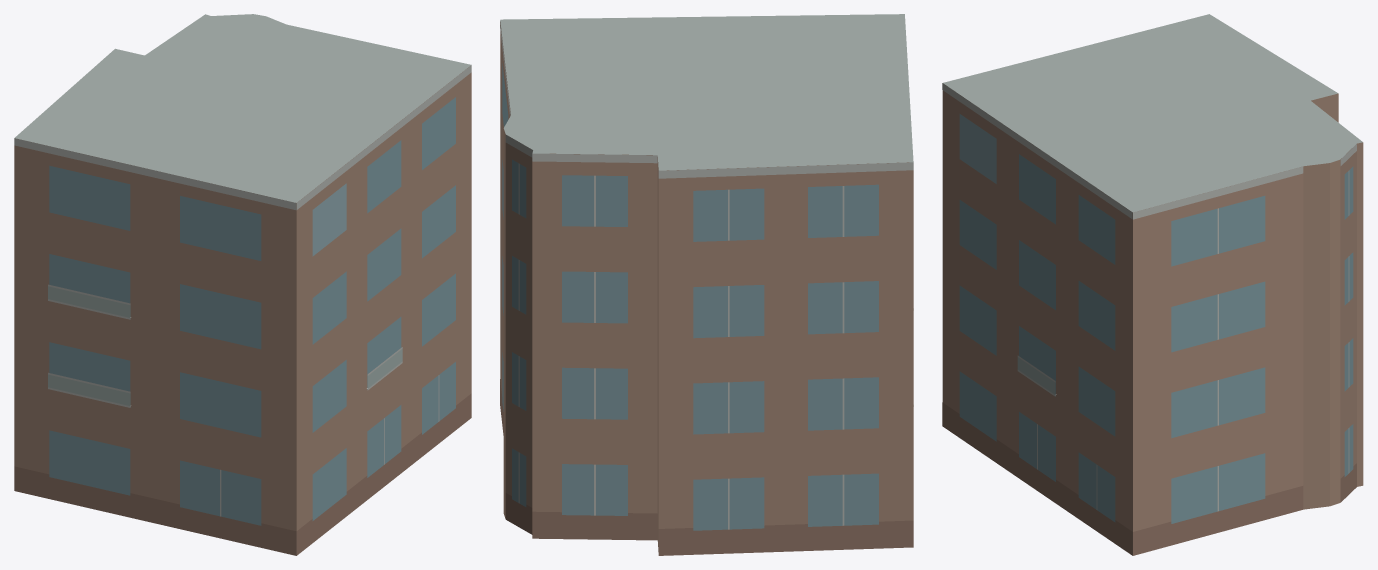
The model's file is survey-upis-32762179.glb.
3 renders of one model, left to right at view 1: azimuth 30°, elevation 25°; view 2: azimuth 150°, elevation 25°; view 3: azimuth 270°, elevation 25°, orthographic. The views are drawn at different scales.
Parts seen in each view (by area): view 1: survey-upis-32762179.tmp; view 2: survey-upis-32762179.tmp; view 3: survey-upis-32762179.tmp.
Part boxes in pixels (x1,y1,x2,y2): survey-upis-32762179.tmp: [14, 14, 471, 555]; survey-upis-32762179.tmp: [500, 14, 913, 555]; survey-upis-32762179.tmp: [942, 14, 1363, 555].
Bounding box in the file's own units: 14.51 × 11.7 × 13.
